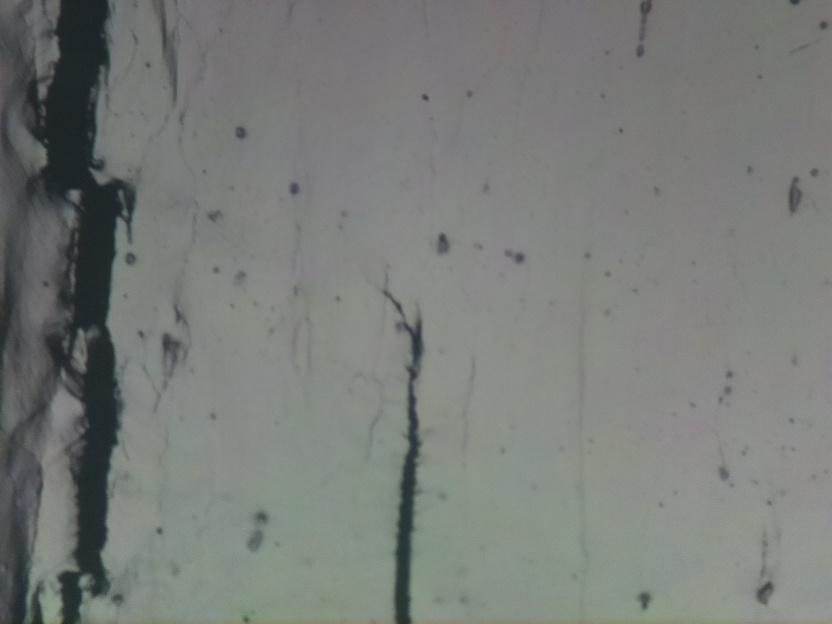crack: (41, 0, 129, 623), (381, 294, 432, 624)
